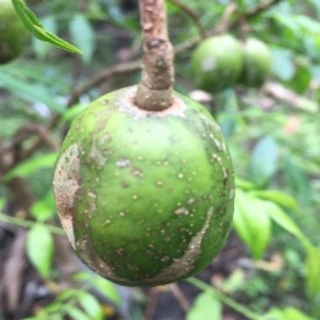coc: (53, 83, 234, 288)
